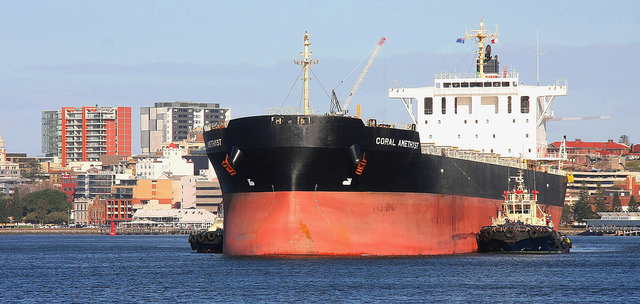bulk carrier: (202, 20, 577, 256)
tug_boat: (479, 167, 572, 254)
